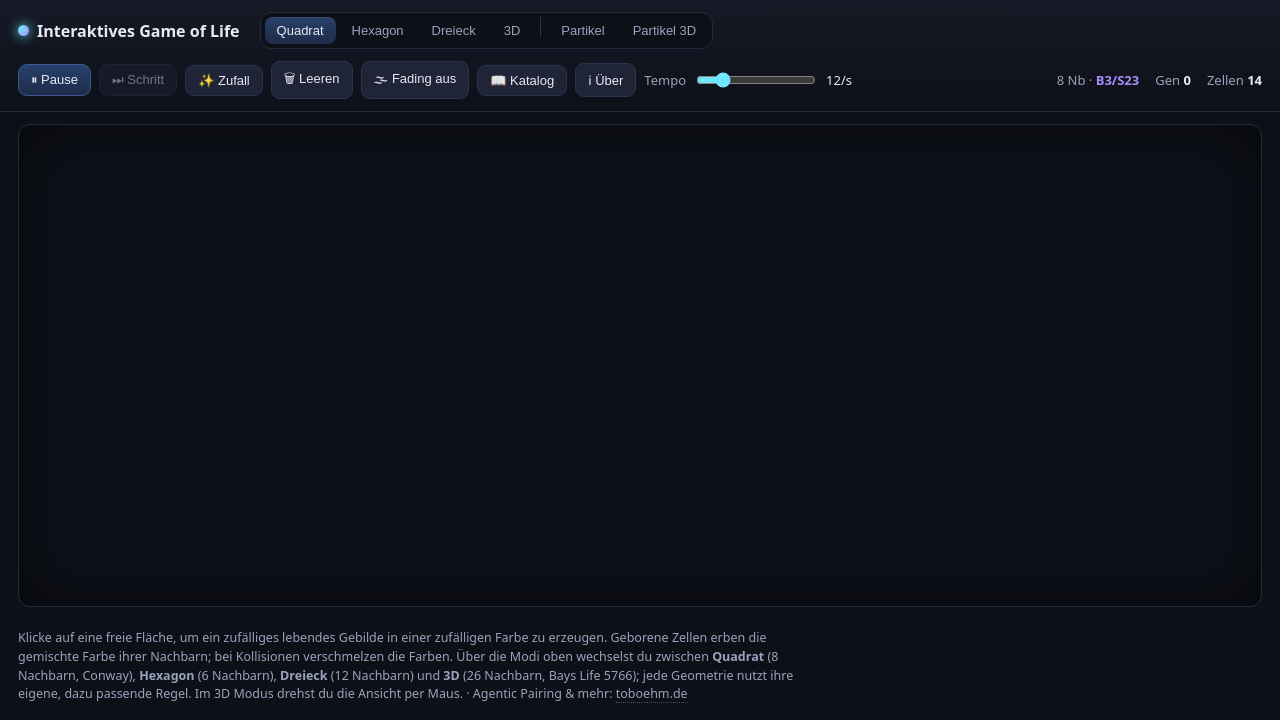
Scenario: App UI › enables the step button only when paused
Expected: the button "⏭ Schritt" is disabled, [99,64,177,96]
Click the button "⏸ Pause": {"x": 54, "y": 80} [18,64,91,96]
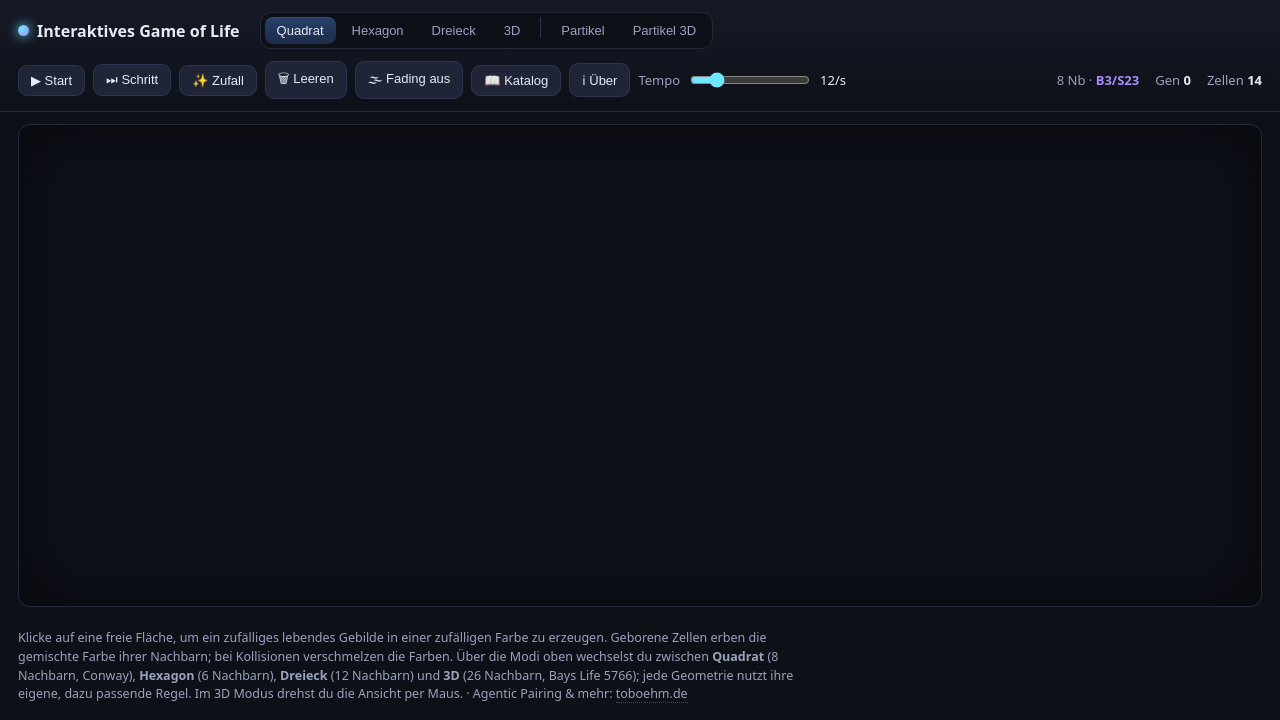
Expected: the button "⏭ Schritt" is enabled, [93,64,171,96]
